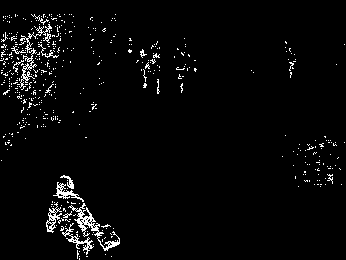person: (42, 174, 117, 259)
